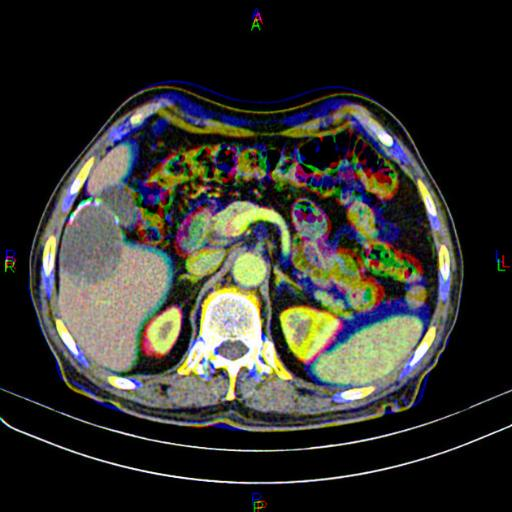Cyst: (60, 185, 133, 283)
